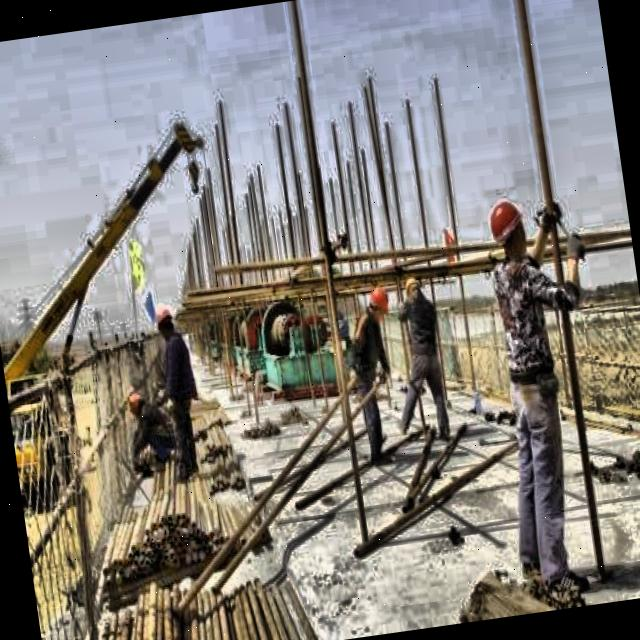helmet: (483, 195, 532, 268), (150, 302, 180, 344), (366, 280, 392, 324), (127, 390, 153, 420), (402, 274, 424, 302)
